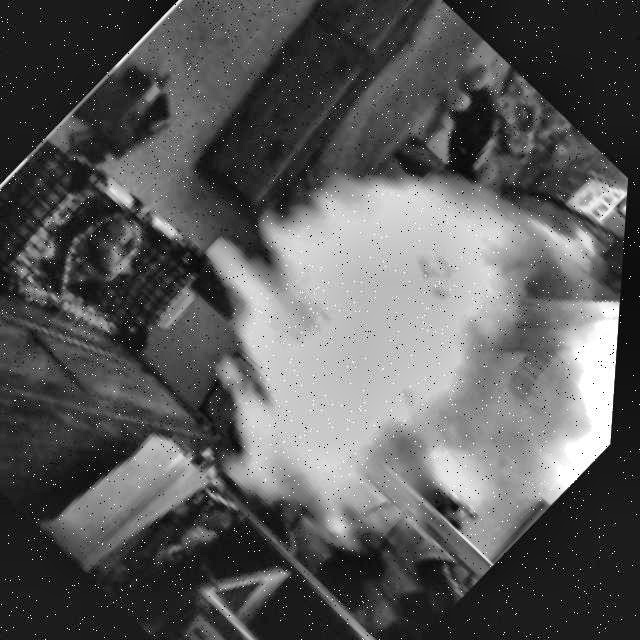Smoke: (106, 47, 626, 640)
